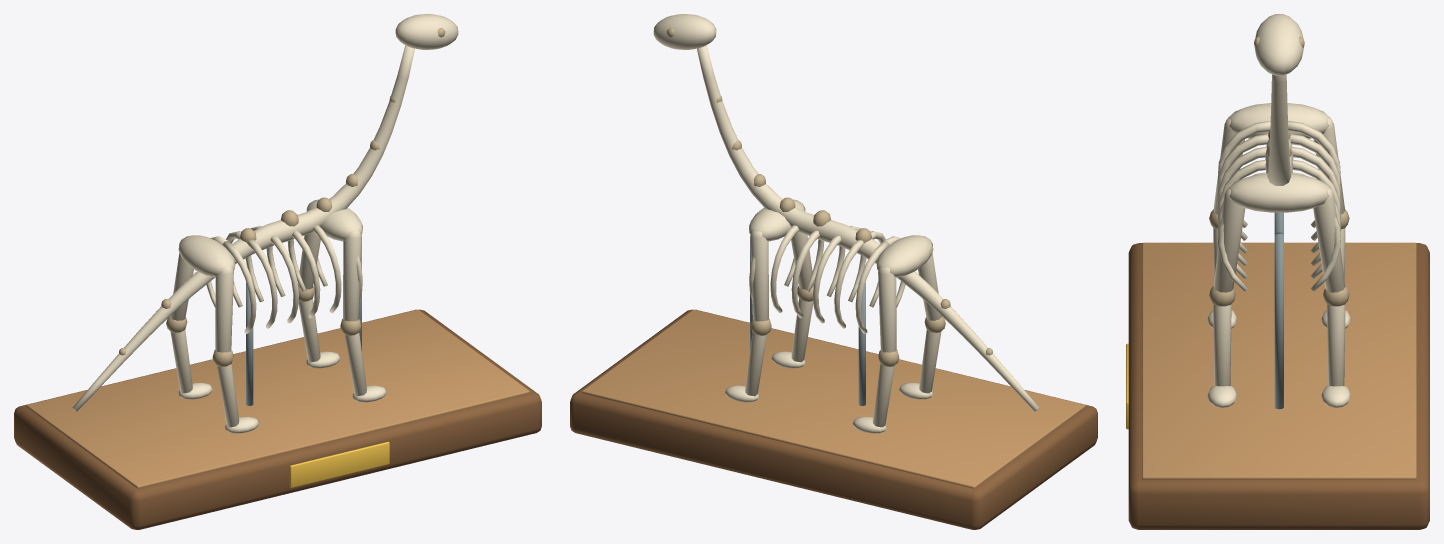
The model's file is dino-model.glb.
3 renders of one model, left to right at view 1: azimuth 30°, elevation 25°; view 2: azimuth 150°, elevation 25°; view 3: azimuth 270°, elevation 25°, orthographic. The views are drawn at different scales.
Parts seen in each view (by area): view 1: pedestal, bones; view 2: pedestal, bones; view 3: pedestal, bones.
Part boxes in pixels (x1=…): pedestal: x1=14, y1=236, x2=541, y2=529; bones: x1=72, y1=14, x2=458, y2=433; pedestal: x1=570, y1=236, x2=1097, y2=529; bones: x1=653, y1=14, x2=1039, y2=433; pedestal: x1=1126, y1=212, x2=1429, y2=529; bones: x1=1207, y1=14, x2=1351, y2=407.
Bounding box in the file's own units: 1.74 × 1.57 × 0.908.
